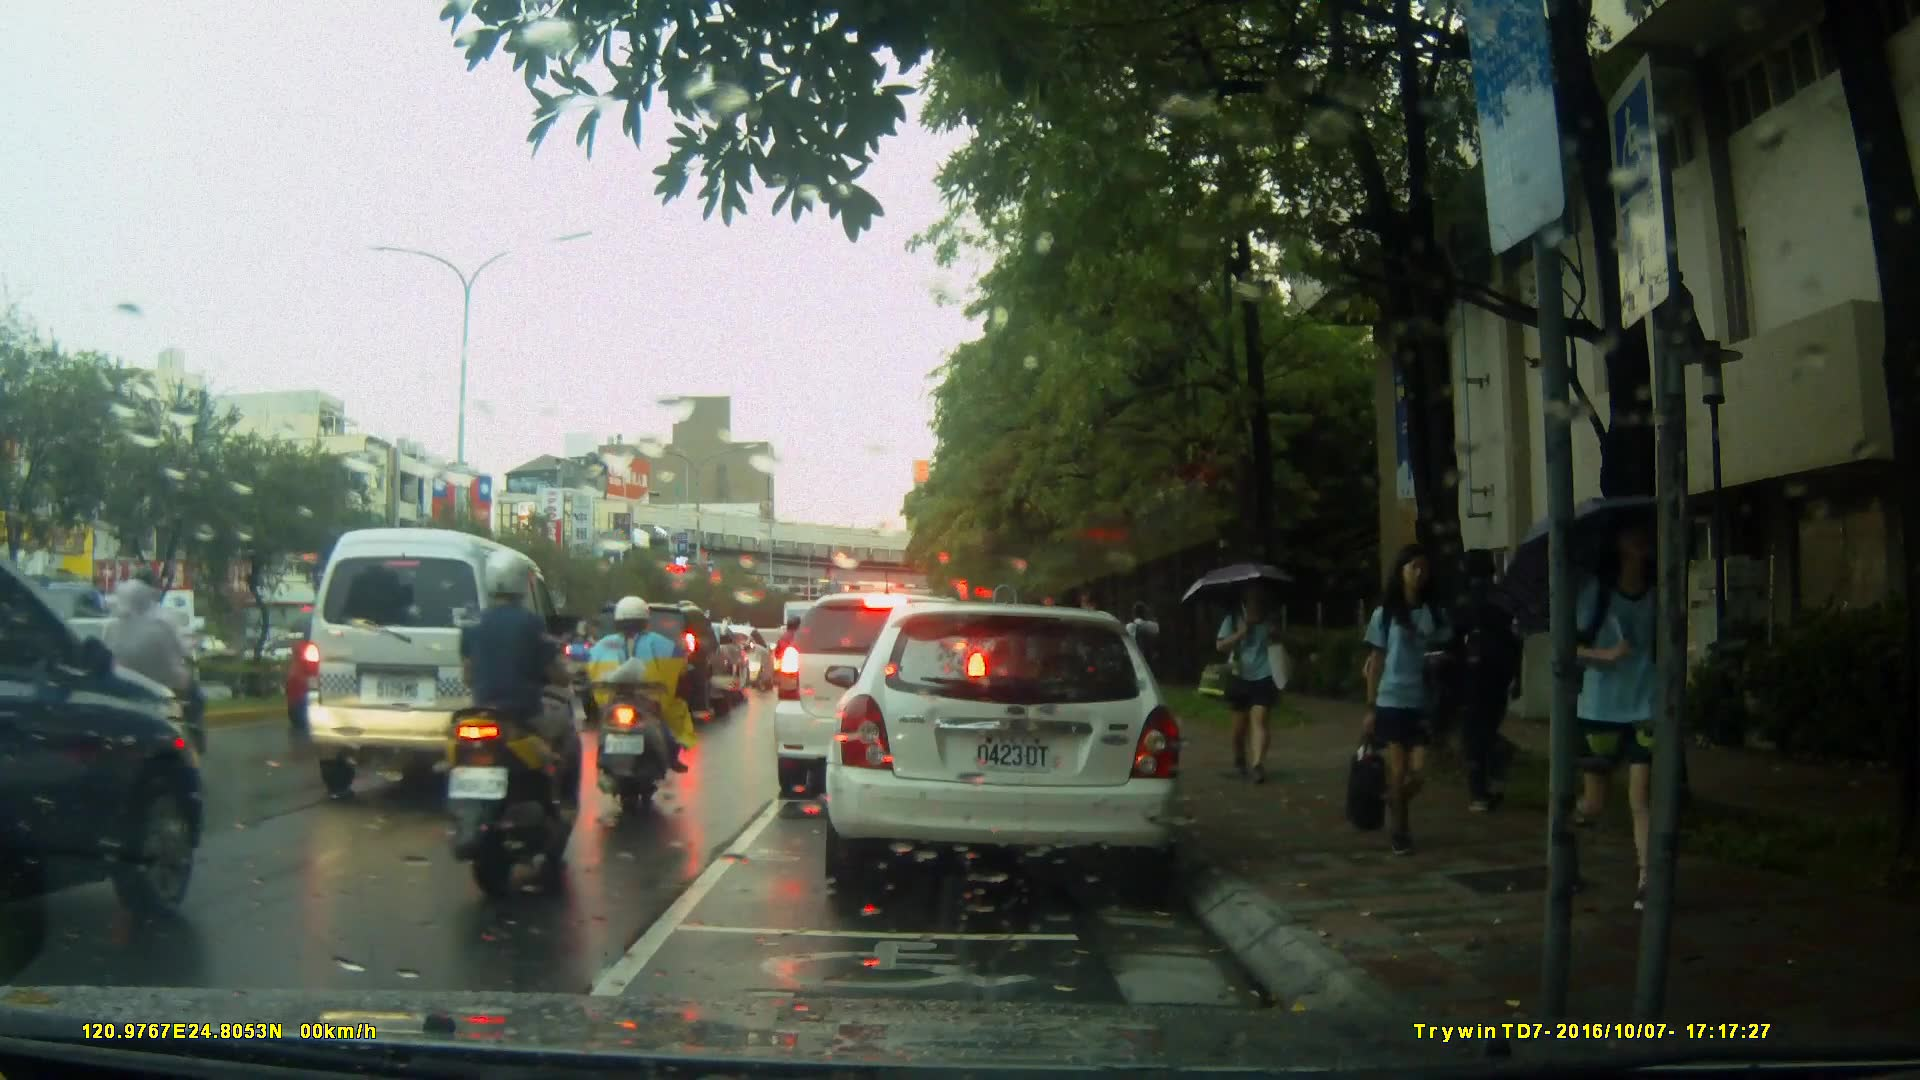pedestrian: (1549, 504, 1705, 925), (1353, 539, 1465, 877), (1446, 547, 1545, 828), (1201, 570, 1292, 792)
rider: (441, 546, 584, 892), (108, 565, 213, 788), (589, 597, 696, 810), (772, 609, 812, 713)
vehicle: (815, 593, 1204, 909), (4, 538, 208, 971), (303, 526, 574, 801), (770, 590, 994, 802), (579, 603, 737, 725)
